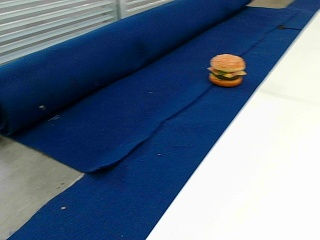burger: (207, 52, 245, 85)
